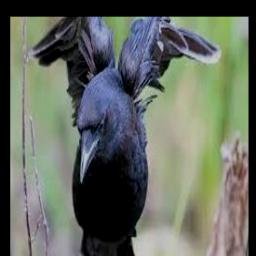Crow: (30, 17, 222, 256)
